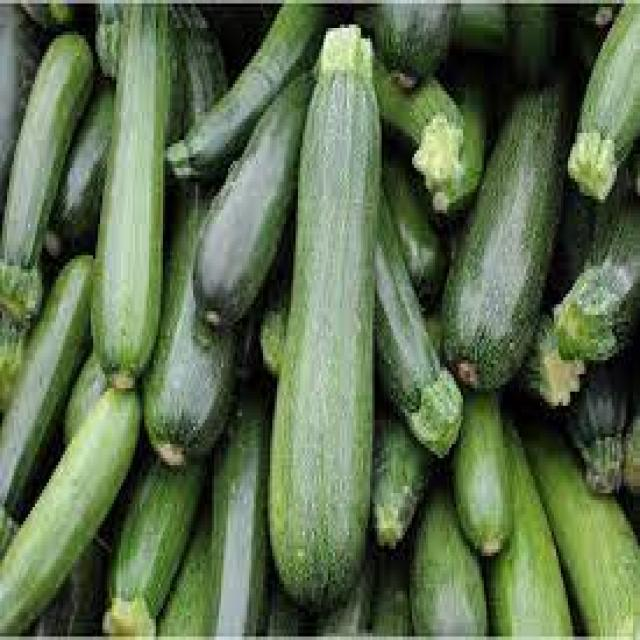Zucchini: (287, 24, 371, 617)
